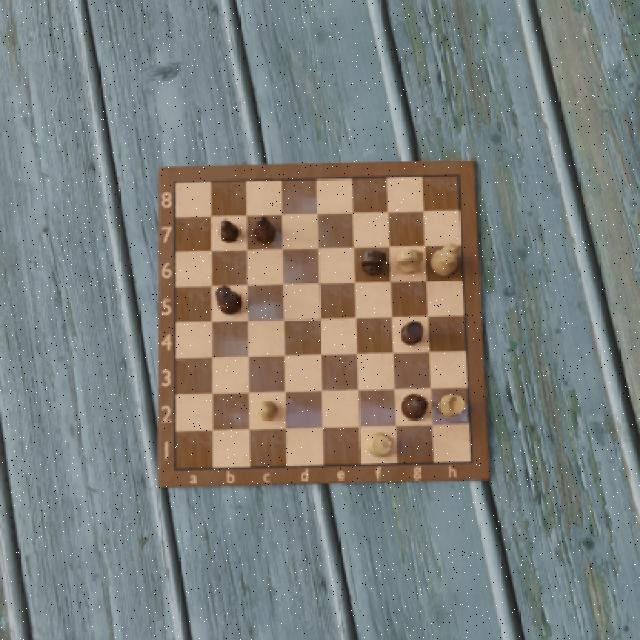black-bishop: (250, 215, 278, 245)
black-king: (401, 392, 431, 422)
black-knight: (356, 247, 388, 277)
black-pawn: (219, 219, 241, 245)
black-queen: (214, 283, 244, 316)
black-rook: (398, 320, 426, 348)
white-king: (429, 242, 459, 278)
white-knight: (394, 246, 426, 277)
white-pawn: (256, 400, 280, 424)
white-queen: (363, 432, 394, 458)
white-rook: (435, 391, 465, 421)
